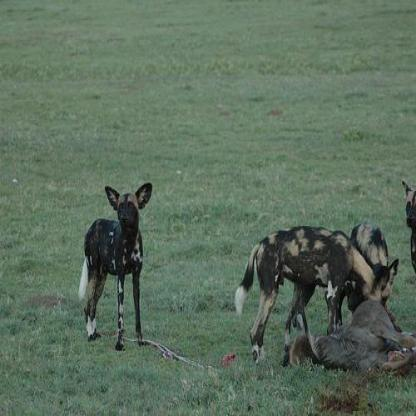African_hunting_dog: (233, 224, 401, 368), (76, 174, 156, 352), (340, 205, 400, 331), (400, 176, 414, 272)
